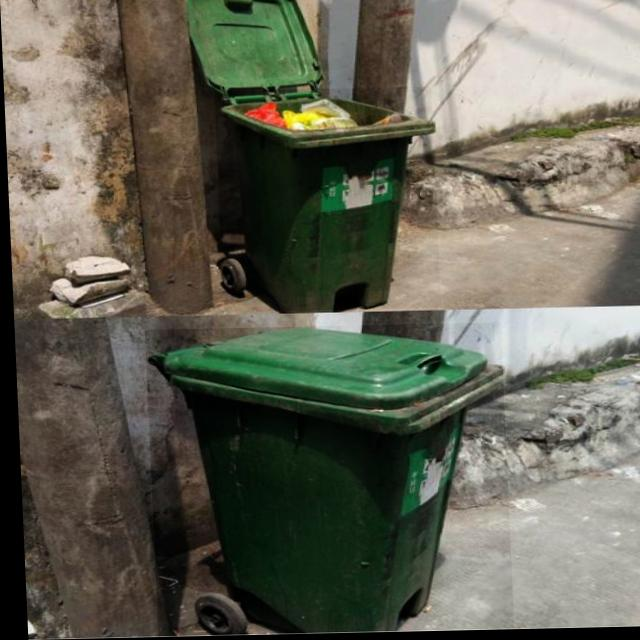garbage_bin: (142, 325, 509, 637)
overflow: (213, 89, 438, 313)
